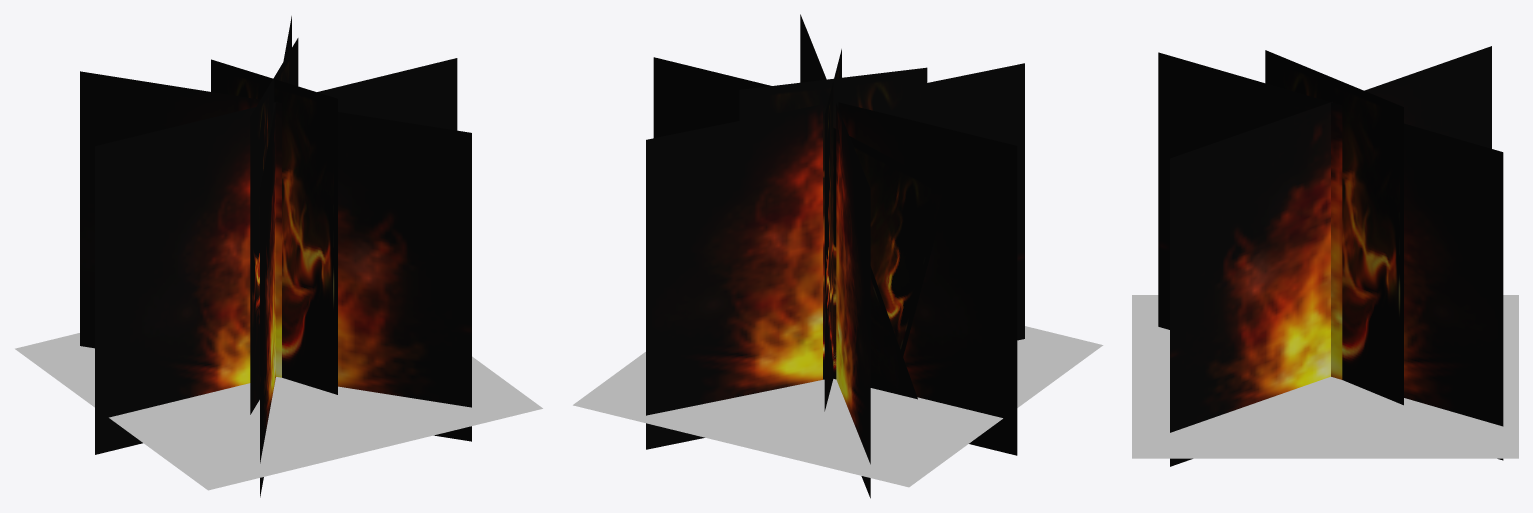
Rendered from fx_scene_gudinghuo.FBX.
3 views of the same model, side by side, from view 1: azimuth 30°, elevation 25°; view 2: azimuth 150°, elevation 25°; view 3: azimuth 270°, elevation 25° (orthographic).
Visible parts, largest first — view 1: Plane006; view 2: Plane006; view 3: Plane006.
Part boxes in pixels (<box>): Plane006: <box>15,16,542,497</box>; Plane006: <box>573,14,1103,498</box>; Plane006: <box>1132,46,1518,466</box>.
Size of the model in its own units: 72.31 by 66.93 by 68.37.
